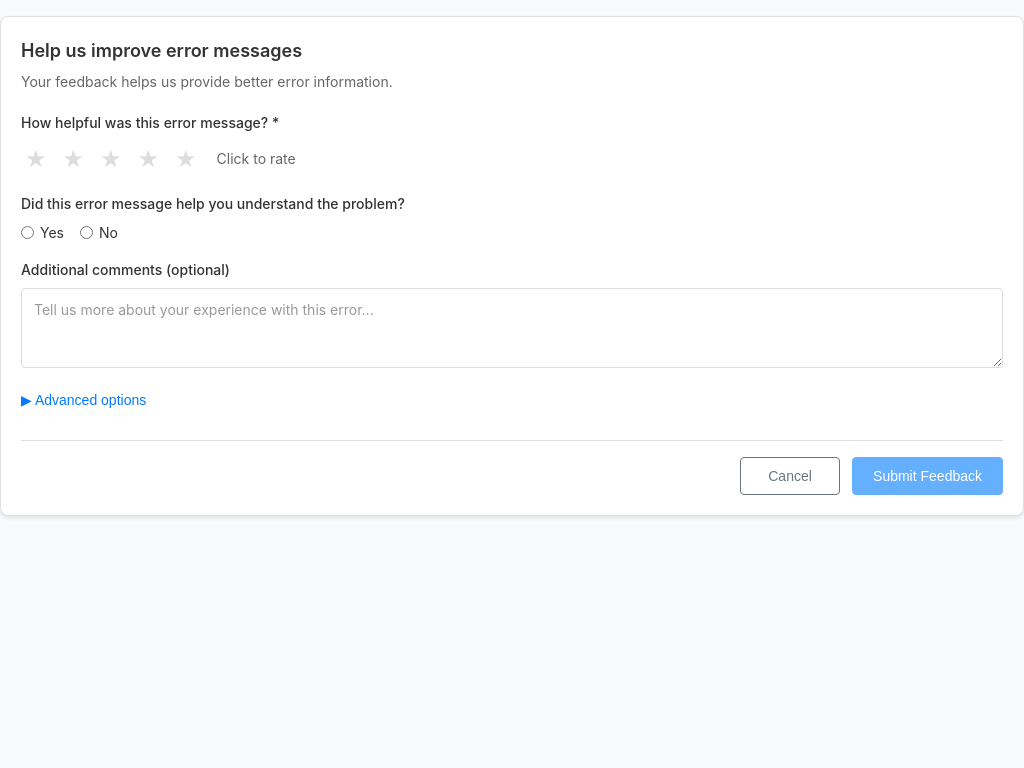
Test: ErrorFeedback › Advanced Options › should toggle advanced options when clicked
Click the button "▶ Advanced options" at (89, 400), box [21,384,1003,416]
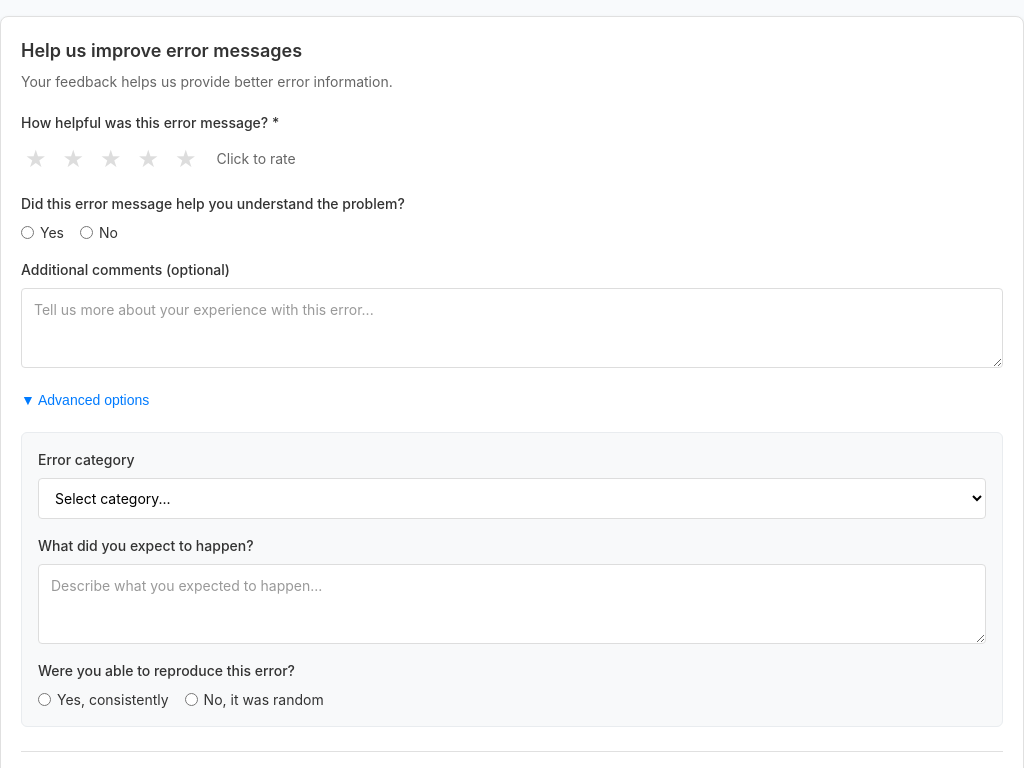
Check: the button "▼ Advanced options" is shown, box [21,384,1003,416]
Check: the dropdown labelled "Error category" is shown, box [38,478,986,519]
Check: the text box labelled "What did you expect to happen?" is shown, box [38,564,986,644]
